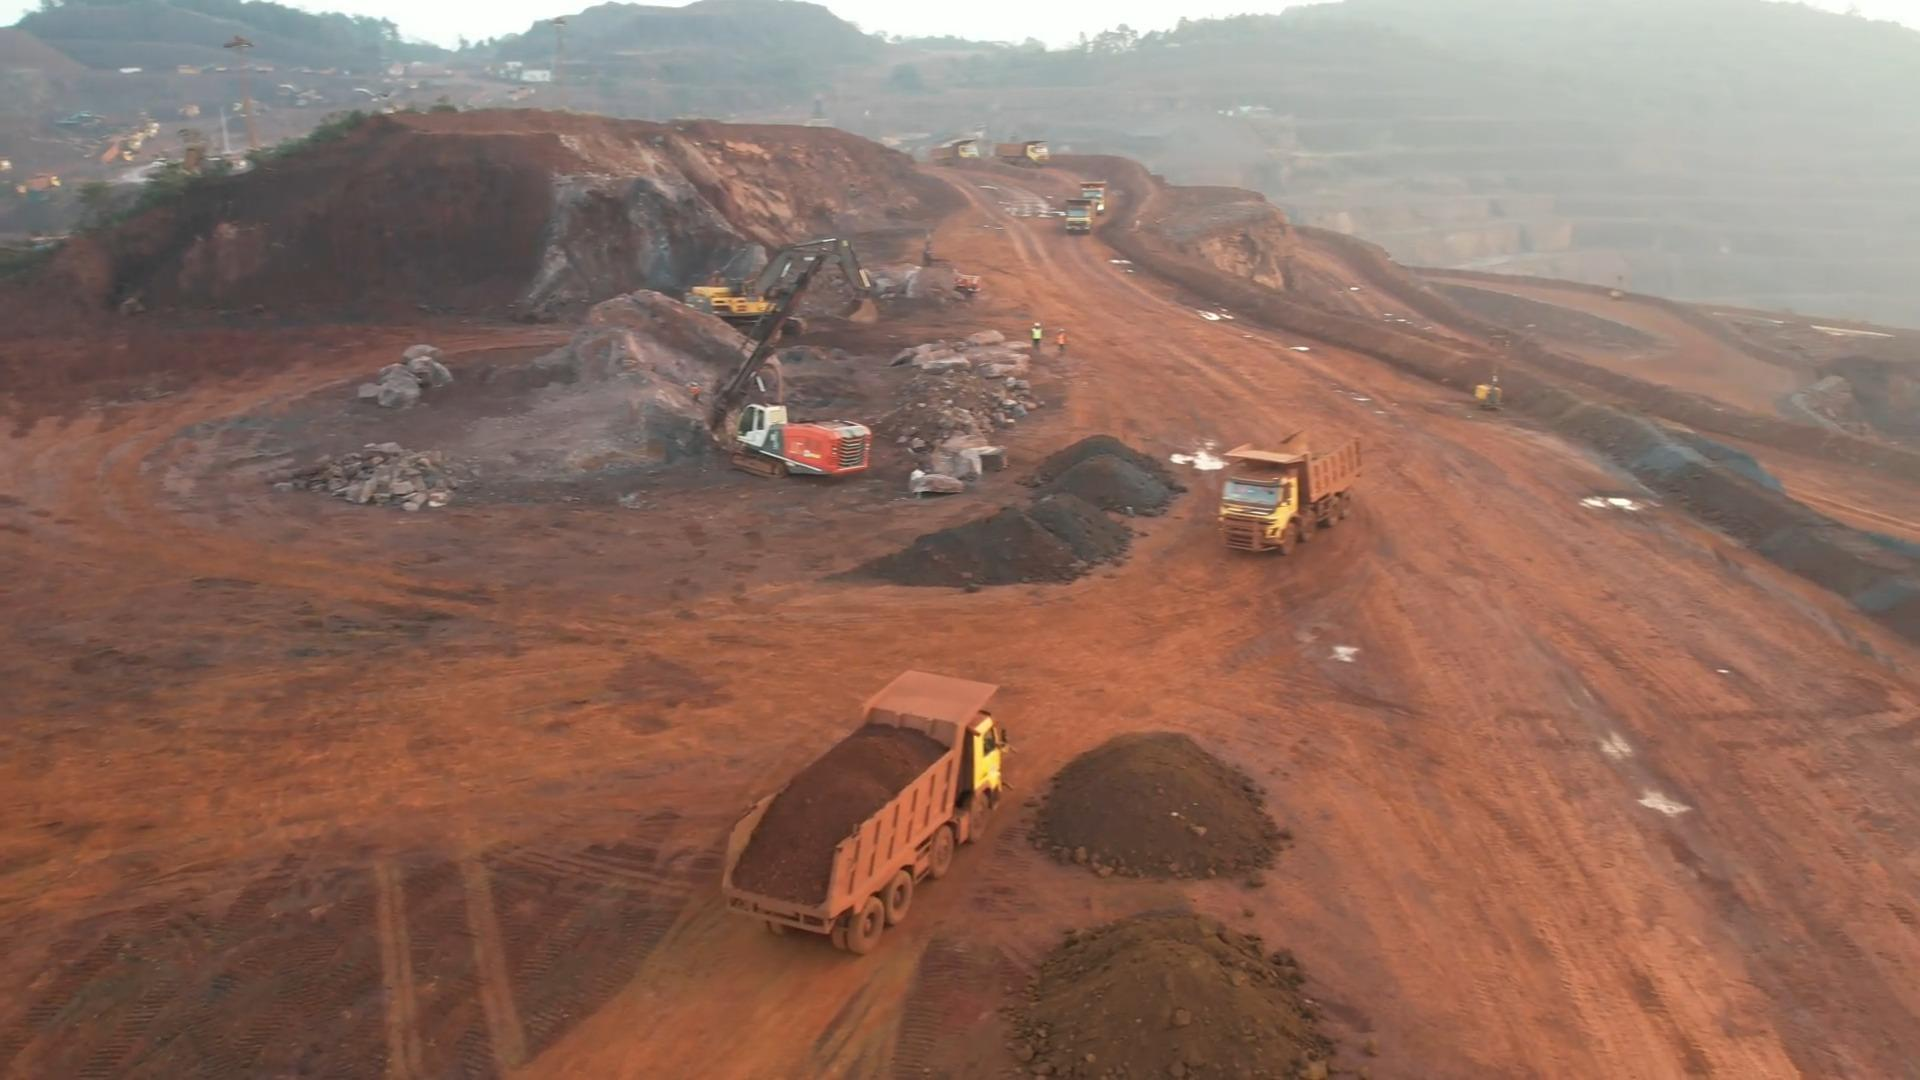excavator: (692, 237, 873, 323)
